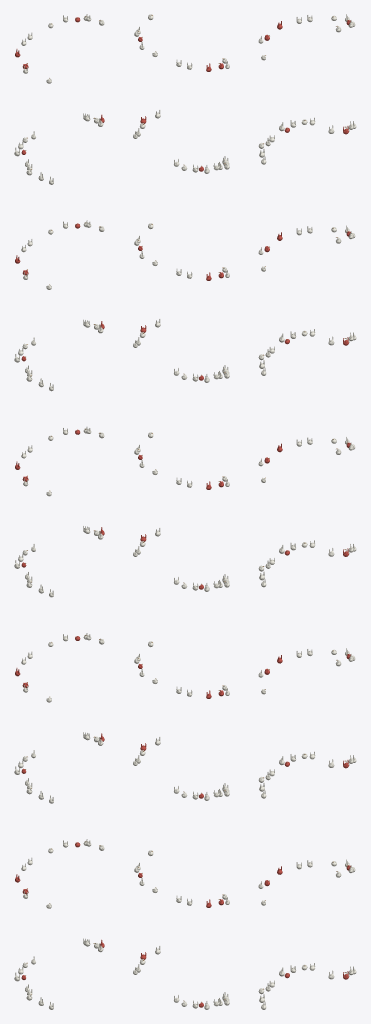
Rendered from Circle3Crowd3.obj.
The picture shows the model from 3 angles, left to right: view 1: azimuth 30°, elevation 25°; view 2: azimuth 150°, elevation 25°; view 3: azimuth 330°, elevation 25°; orthographic projection. The views are drawn at different scales.
Parts seen in each view (by area): view 1: Circle3Crowd3; view 2: Circle3Crowd3; view 3: Circle3Crowd3.
Part boxes in pixels (<box>): Circle3Crowd3: <box>14,14,104,1009</box>; Circle3Crowd3: <box>133,14,229,1009</box>; Circle3Crowd3: <box>258,14,356,1009</box>.
Bounding box in the file's own units: 29.86 × 328 × 22.96.
Materials: 1 (1 with a texture image).
